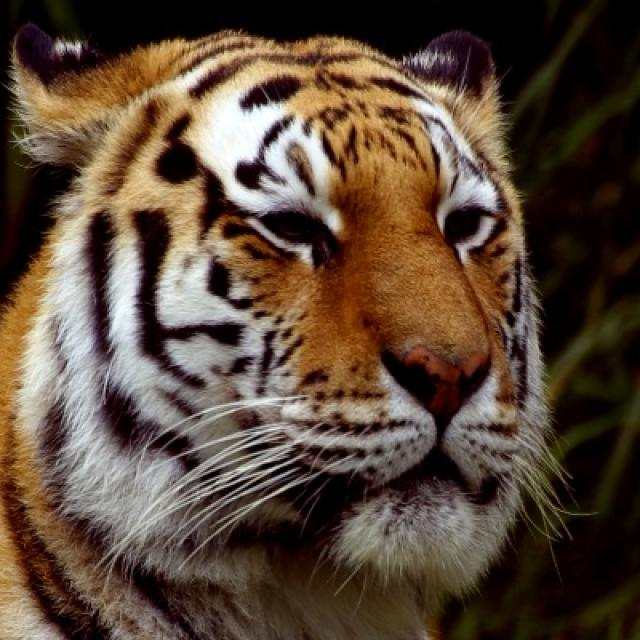Tiger: (11, 31, 567, 633)
